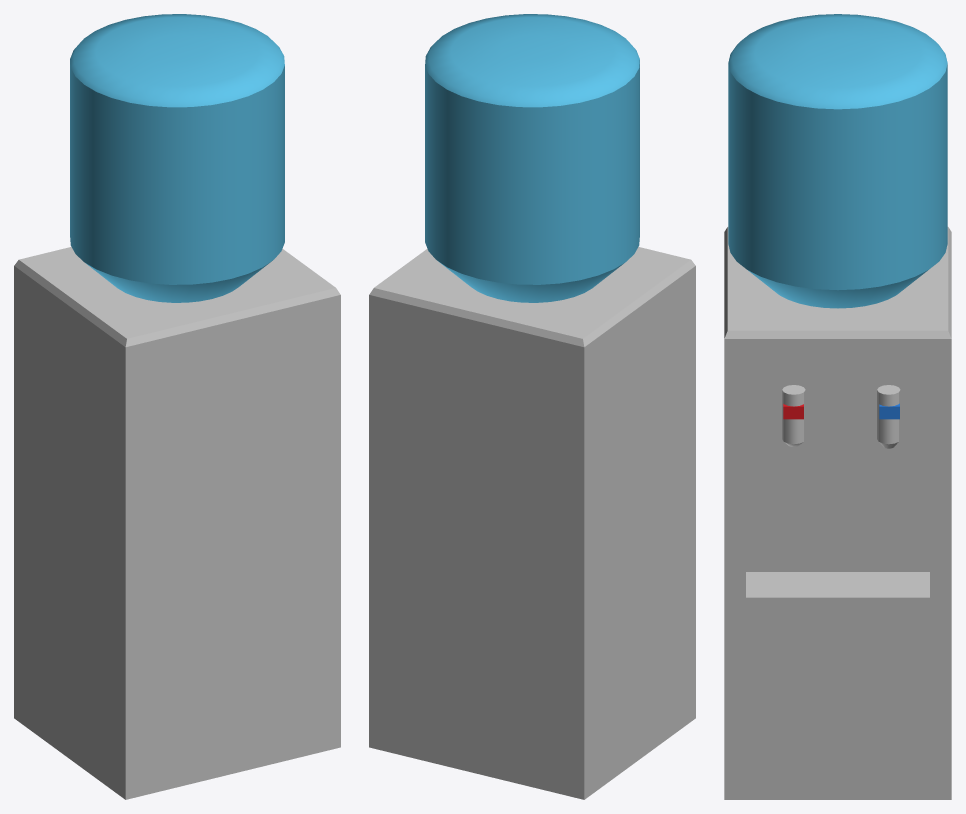
File: Dispenser.fbx
The picture shows the model from 3 angles, left to right: view 1: azimuth 30°, elevation 25°; view 2: azimuth 150°, elevation 25°; view 3: azimuth 270°, elevation 25°; orthographic projection.
Visible parts, largest first — view 1: Cube; view 2: Cube; view 3: Cube.
Part boxes in pixels (left/top/right/bottom): Cube: left=14, top=14, right=340, bottom=799; Cube: left=369, top=14, right=695, bottom=799; Cube: left=724, top=14, right=951, bottom=799.
Bounding box in the file's own units: 218 × 662 × 195.
